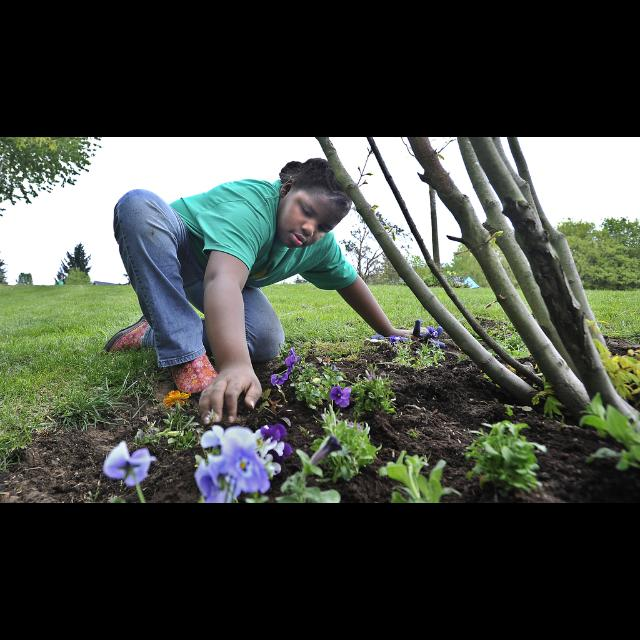Flower: (192, 423, 294, 502), (100, 445, 148, 493), (309, 434, 343, 466), (162, 389, 192, 407), (330, 386, 352, 408), (286, 346, 298, 374), (270, 372, 288, 388)
